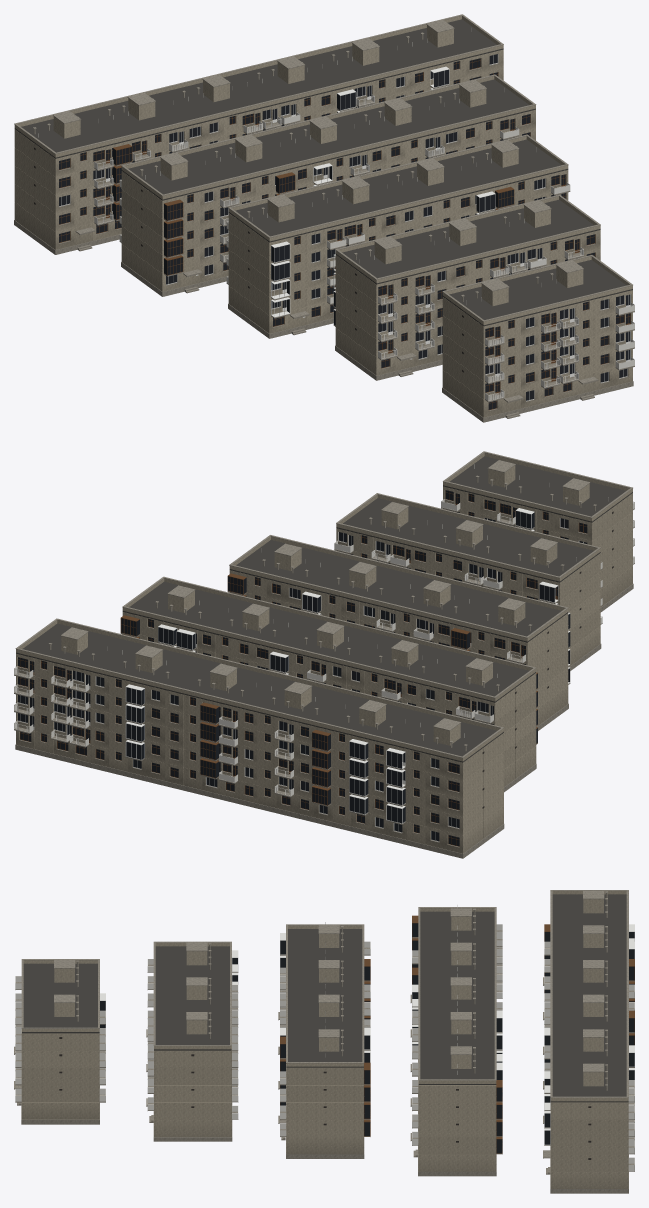
Rendered from panel_block.glb.
The picture shows the model from 3 angles, top to bottom: view 1: azimuth 30°, elevation 25°; view 2: azimuth 150°, elevation 25°; view 3: azimuth 270°, elevation 25°; orthographic projection. The views are drawn at different scales.
Visible parts, largest first — view 1: block_6, block_5, block_4, block_2, block_3; view 2: block_6, block_5, block_4, block_3, block_2; view 3: block_6, block_5, block_4, block_3, block_2.
Part boxes in pixels (<box>): block_6: <box>14,14,503,254</box>; block_5: <box>119,74,536,296</box>; block_4: <box>226,134,570,338</box>; block_2: <box>442,255,634,422</box>; block_3: <box>333,194,600,380</box>; block_6: <box>14,618,504,858</box>; block_5: <box>120,576,537,792</box>; block_4: <box>227,535,570,730</box>; block_3: <box>334,493,602,670</box>; block_2: <box>441,451,634,612</box>; block_6: <box>543,890,634,1193</box>; block_5: <box>410,905,502,1176</box>; block_4: <box>278,922,370,1158</box>; block_3: <box>146,941,238,1141</box>; block_2: <box>14,959,105,1124</box>.
Size of the model in its own units: 72.12 by 17.33 by 91.1.
Materials: 8 (2 with a texture image).
